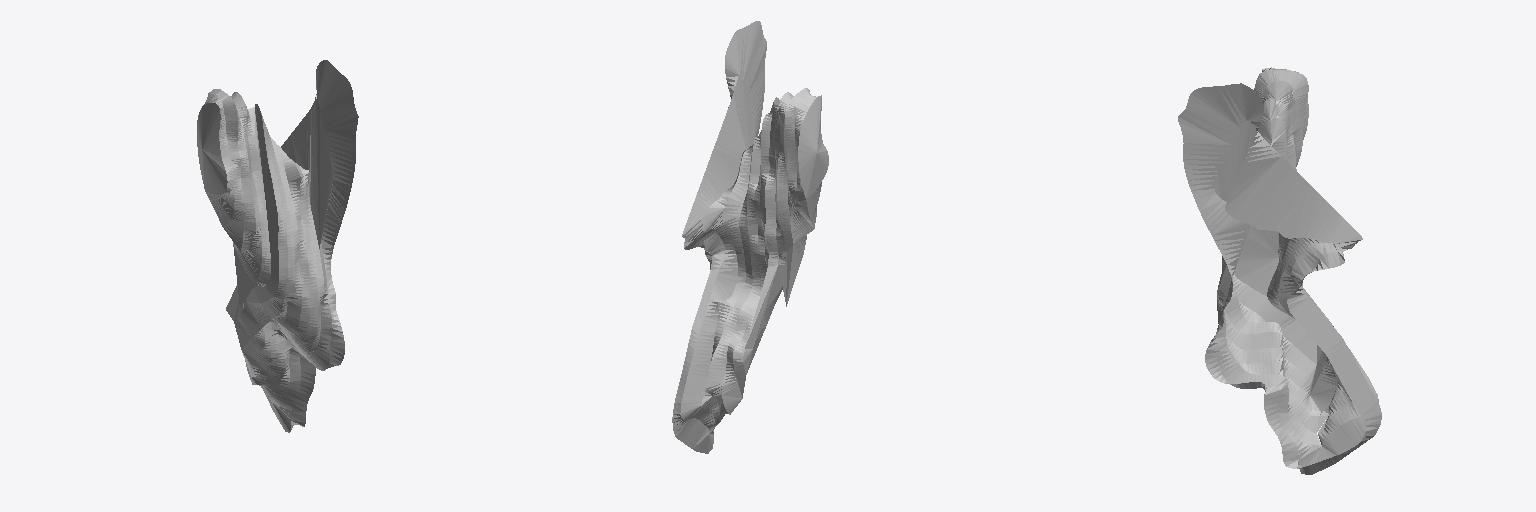
Rendered from rjaw.obj.
3 views of the same model, side by side, from view 1: azimuth 30°, elevation 25°; view 2: azimuth 150°, elevation 25°; view 3: azimuth 270°, elevation 25° (orthographic).
Bounding box in the file's own units: 0.075 × 0.2749 × 0.1286.